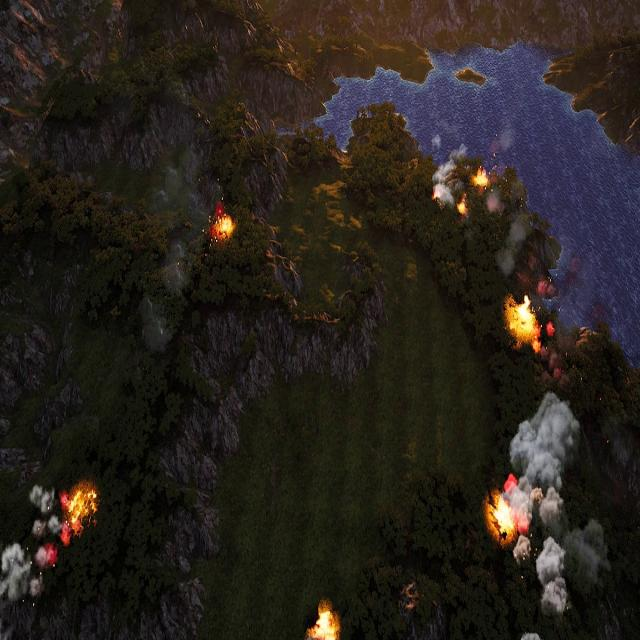fire: (61, 486, 97, 540), (509, 296, 542, 349), (491, 492, 516, 538), (306, 609, 338, 640), (213, 213, 233, 237), (475, 170, 489, 188), (457, 198, 467, 215), (431, 189, 437, 201)
smoke: (506, 389, 609, 615), (135, 152, 212, 358), (0, 482, 60, 640), (483, 126, 526, 281), (539, 251, 583, 368), (431, 142, 468, 209)
